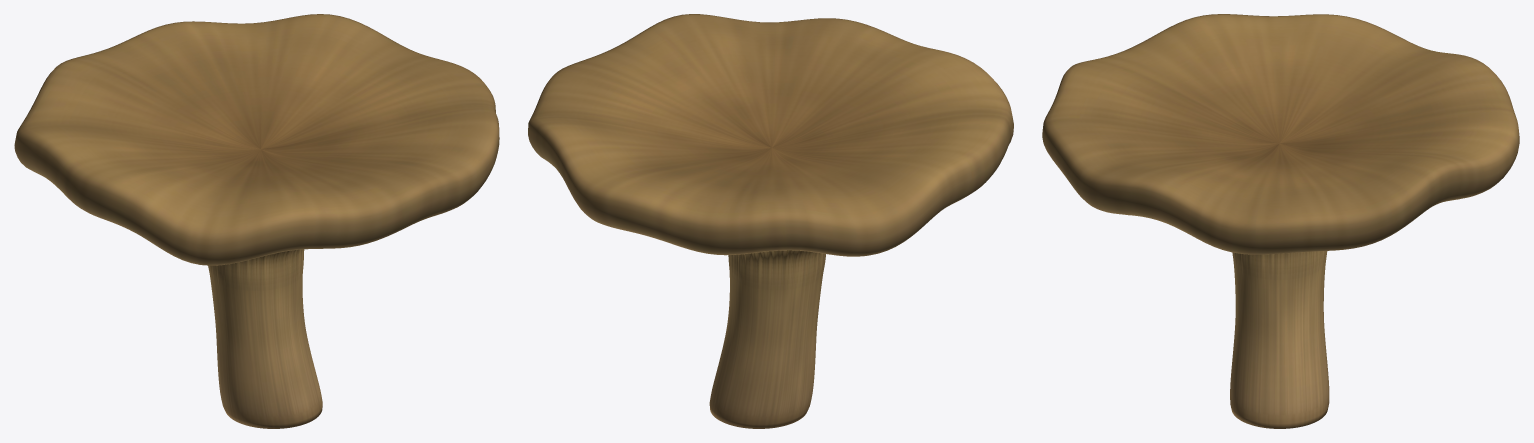
The model's file is paxillus-involutus-drawn.glb.
The picture shows the model from 3 angles, left to right: view 1: azimuth 30°, elevation 25°; view 2: azimuth 150°, elevation 25°; view 3: azimuth 270°, elevation 25°; orthographic projection.
Size of the model in its own units: 0.8634 by 0.6087 by 0.8652.
1 material, 1 textured.
